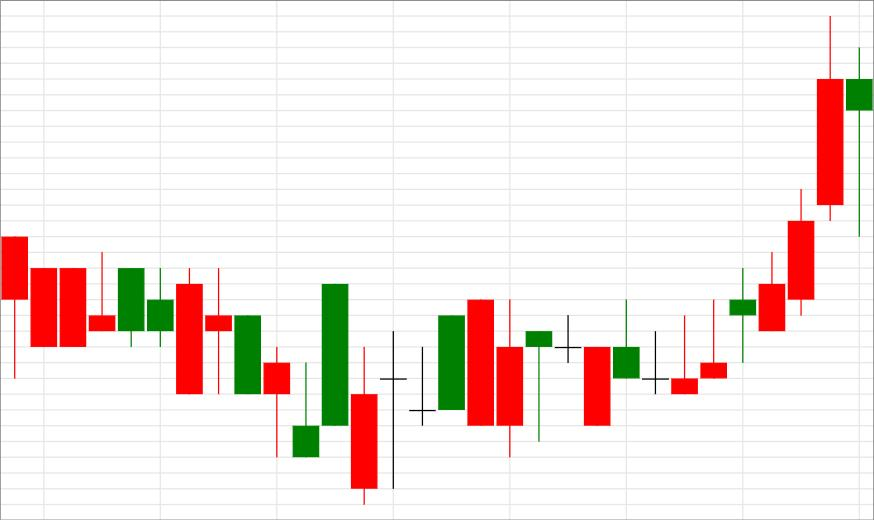inverse_hammer_rise: (118, 267, 320, 458)
